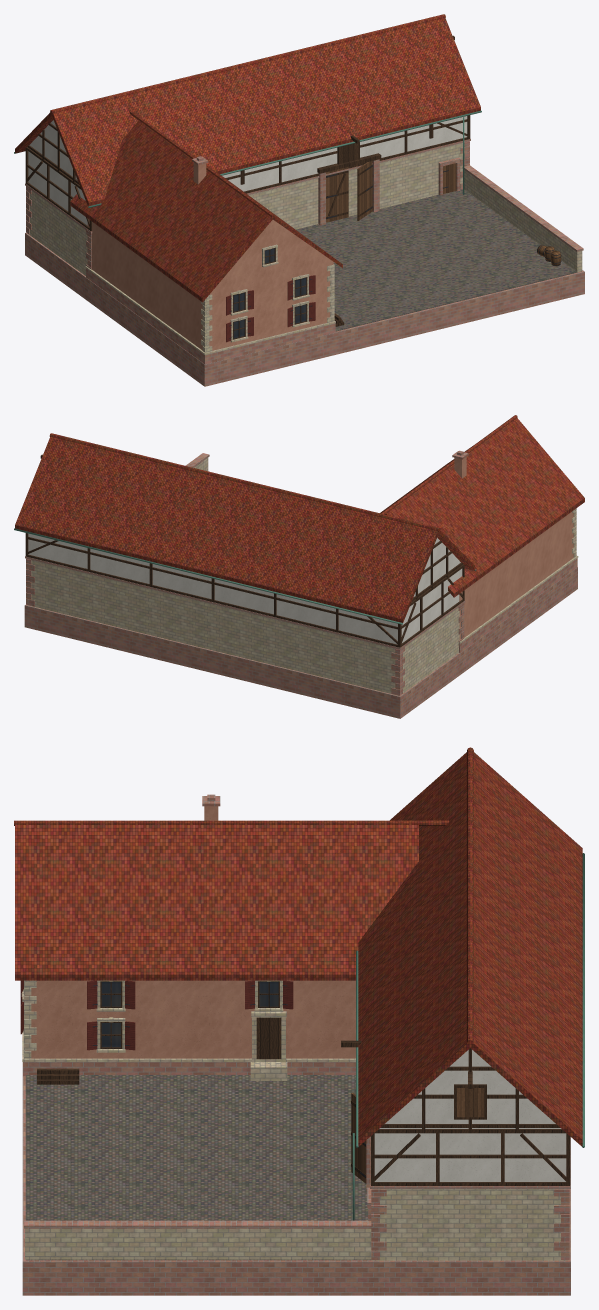
The model's file is winzerhof_barn.glb.
The picture shows the model from 3 angles, top to bottom: view 1: azimuth 30°, elevation 25°; view 2: azimuth 150°, elevation 25°; view 3: azimuth 270°, elevation 25°; orthographic projection. The views are drawn at different scales.
Parts seen in each view (by area): view 1: Winzerhof_roof_clay, Winzerhof_cobble, Winzerhof_sandstone_red, Winzerhof_stucco, Winzerhof_sandstone_yellow, Winzerhof_barn_plaster, Winzerhof_wood_dark, Winzerhof_wood_barn, Winzerhof_shutter_red, Winzerhof_glass_warm, Winzerhof_copper; view 2: Winzerhof_roof_clay, Winzerhof_sandstone_yellow, Winzerhof_sandstone_red, Winzerhof_barn_plaster, Winzerhof_stucco, Winzerhof_wood_dark, Winzerhof_copper; view 3: Winzerhof_roof_clay, Winzerhof_cobble, Winzerhof_sandstone_red, Winzerhof_sandstone_yellow, Winzerhof_stucco, Winzerhof_barn_plaster, Winzerhof_wood_dark, Winzerhof_shutter_red, Winzerhof_copper, Winzerhof_wood_barn, Winzerhof_glass_warm.
Boxes of the visible parts, x1,y1,x2,y2 form: Winzerhof_roof_clay: (15,14,480,302); Winzerhof_cobble: (296,189,581,331); Winzerhof_sandstone_red: (25,139,584,386); Winzerhof_stucco: (87,162,333,350); Winzerhof_sandstone_yellow: (29,142,582,354); Winzerhof_barn_plaster: (28,116,467,225); Winzerhof_wood_dark: (25,35,470,339); Winzerhof_wood_barn: (326,161,456,222); Winzerhof_shutter_red: (226,275,315,342); Winzerhof_glass_warm: (233,248,306,338); Winzerhof_copper: (14,110,481,207); Winzerhof_roof_clay: (15,415,584,622); Winzerhof_sandstone_yellow: (27,457,578,695); Winzerhof_sandstone_red: (24,450,577,718); Winzerhof_barn_plaster: (28,533,462,644); Winzerhof_stucco: (454,457,573,639); Winzerhof_wood_dark: (25,454,464,647); Winzerhof_copper: (14,528,476,624); Winzerhof_roof_clay: (14,747,582,1146); Winzerhof_cobble: (25,1075,371,1260); Winzerhof_sandstone_red: (22,794,570,1295); Winzerhof_sandstone_yellow: (21,980,568,1260); Winzerhof_stucco: (25,806,355,1058); Winzerhof_barn_plaster: (374,1050,566,1181); Winzerhof_wood_dark: (37,981,570,1185); Winzerhof_shutter_red: (20,980,293,1050); Winzerhof_copper: (352,853,584,1220); Winzerhof_wood_barn: (351,1088,484,1183); Winzerhof_glass_warm: (101,982,278,1047).
Size of the model in its own units: 31.11 by 12.6 by 25.04.
13 materials, 13 textured.
